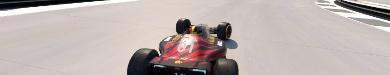Car: (126, 18, 239, 74)
Solid White and black: (334, 0, 389, 25)
